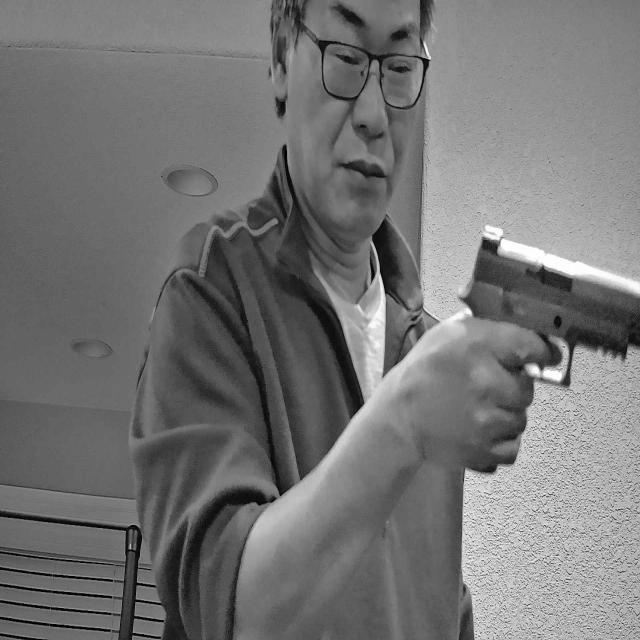Hand-Gun: (468, 216, 640, 468)
